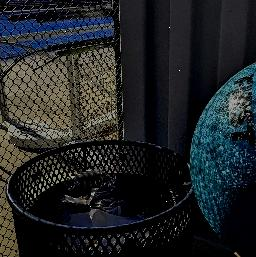algae: (184, 46, 256, 257)
